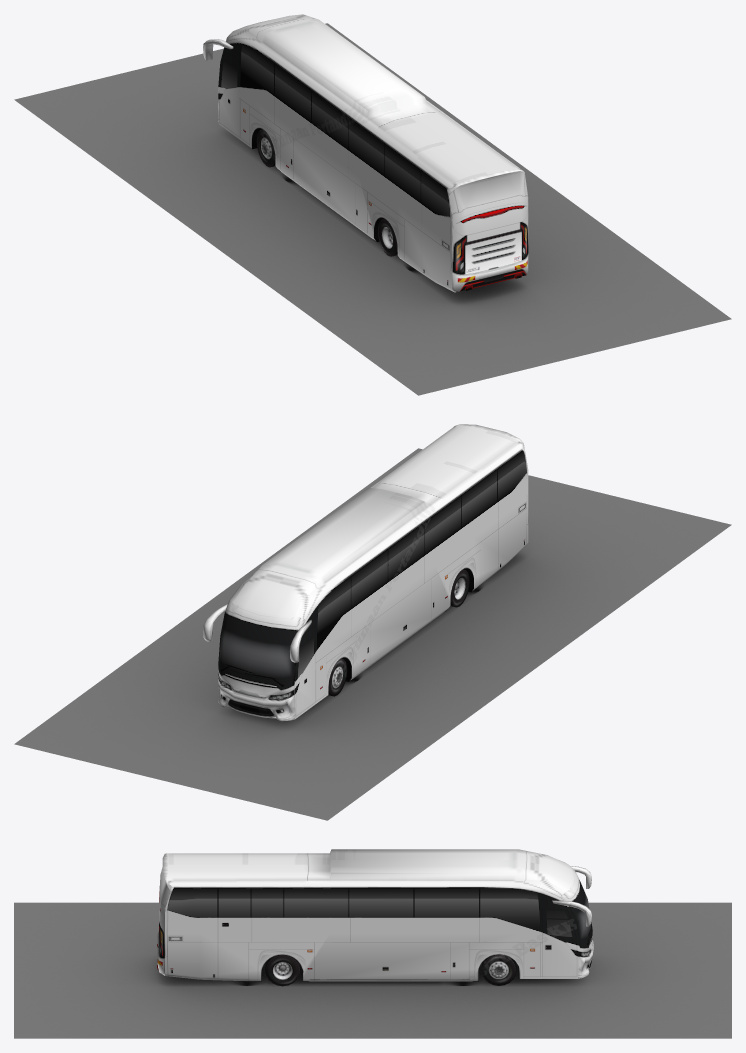
File: tms7.glb
3 views of the same model, one above another, from view 1: azimuth 30°, elevation 25°; view 2: azimuth 150°, elevation 25°; view 3: azimuth 270°, elevation 25° (orthographic). The views are drawn at different scales.
Visible parts, largest first — view 1: Plane, baked; view 2: Plane, baked; view 3: Plane, baked.
Boxes of the visible parts, bbox=[...] form: Plane: bbox=[14, 23, 731, 395]; baked: bbox=[203, 14, 528, 292]; Plane: bbox=[14, 448, 731, 820]; baked: bbox=[203, 424, 528, 721]; Plane: bbox=[14, 902, 731, 1038]; baked: bbox=[157, 849, 593, 986].
Size of the model in its own units: 3.2 by 1.21 by 7.14.
2 materials, 2 textured.
